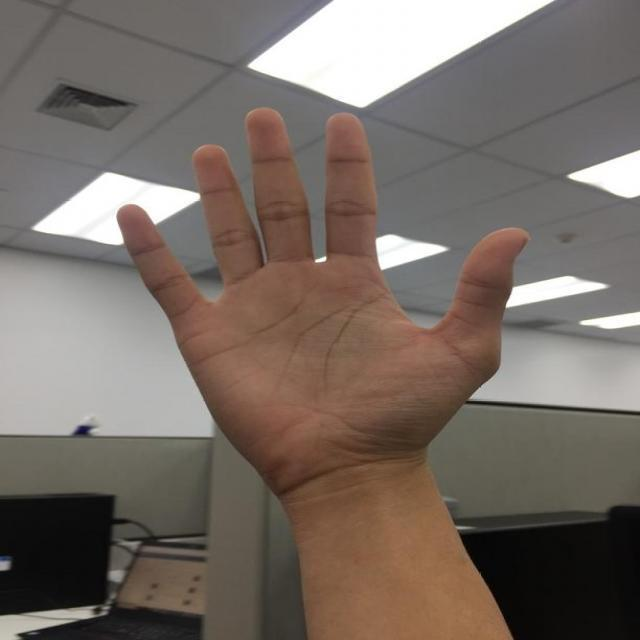no-gloves: (114, 104, 529, 487)
